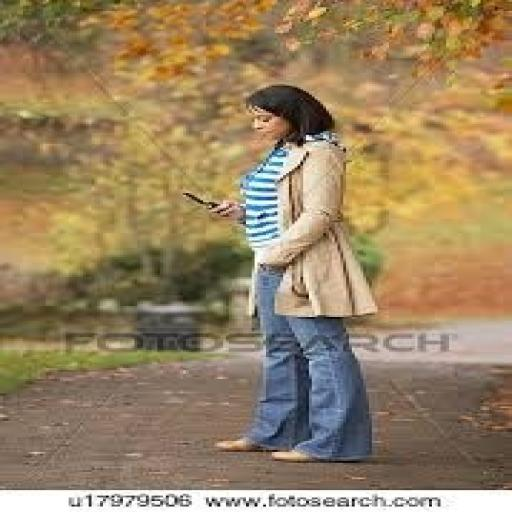calling: (198, 82, 380, 465)
